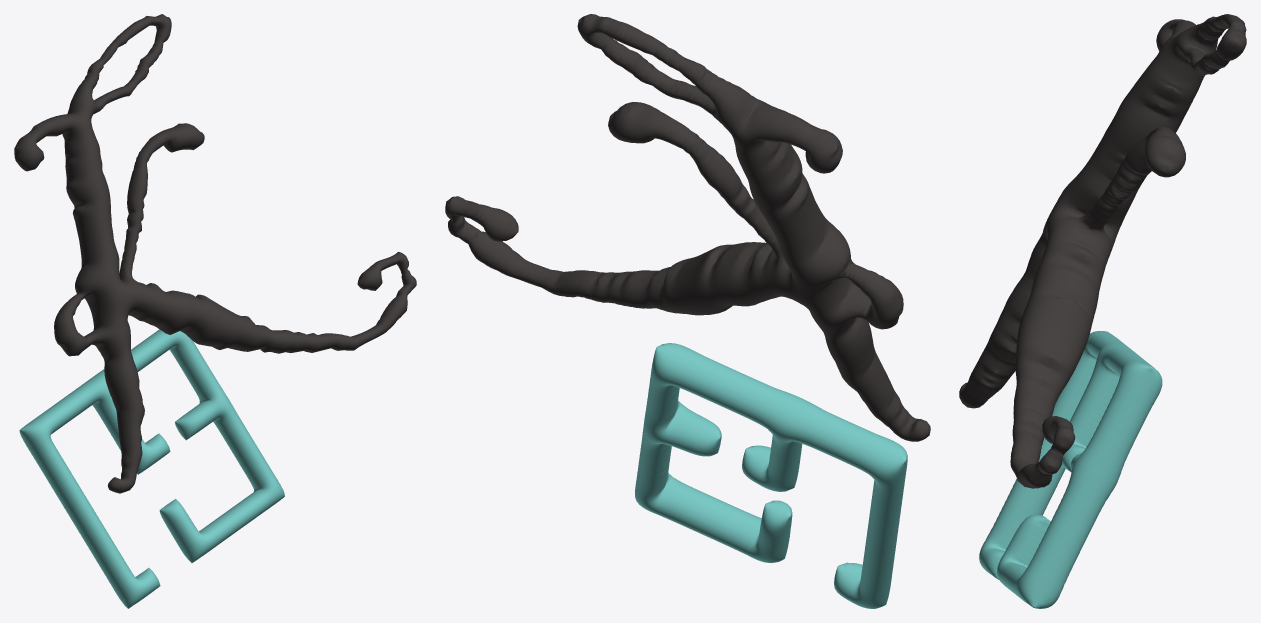
The model's file is ssak-k.glb.
The picture shows the model from 3 angles, left to right: view 1: azimuth 30°, elevation 25°; view 2: azimuth 150°, elevation 25°; view 3: azimuth 270°, elevation 25°; orthographic projection. The views are drawn at different scales.
Parts seen in each view (by area): view 1: 자산 8@300xTkr.001; view 2: 자산 8@300xTkr.001; view 3: 자산 8@300xTkr.001.
Part boxes in pixels (x1,y1,x2,y2): 자산 8@300xTkr.001: [14, 14, 416, 608]; 자산 8@300xTkr.001: [445, 14, 930, 608]; 자산 8@300xTkr.001: [959, 14, 1246, 608].
Size of the model in its own units: 5.09 by 6.42 by 2.68.
